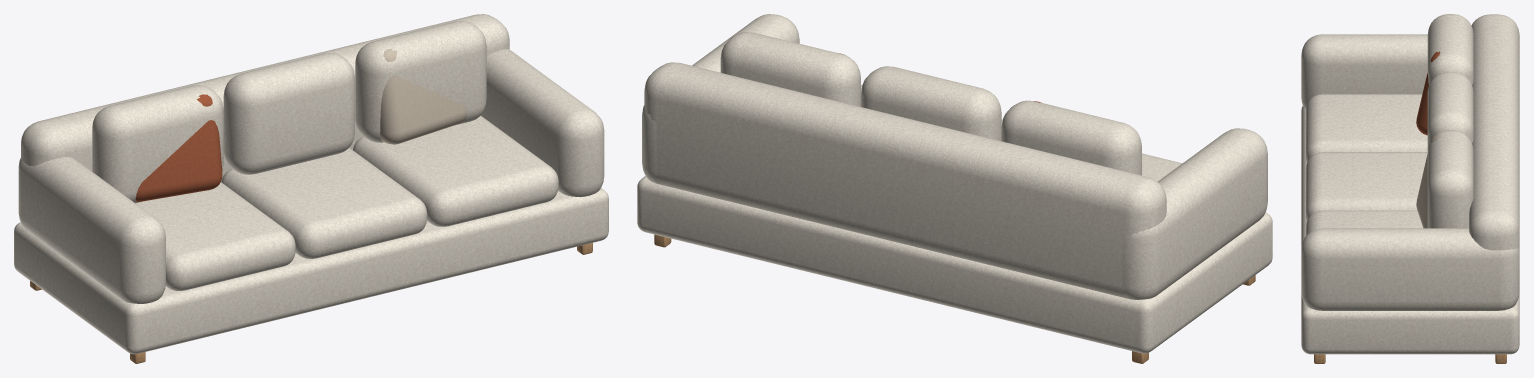
File: sofa-boucle.glb
3 renders of one model, left to right at view 1: azimuth 30°, elevation 25°; view 2: azimuth 150°, elevation 25°; view 3: azimuth 270°, elevation 25°, orthographic. The views are drawn at different scales.
Parts seen in each view (by area): view 1: base, arm, seat.001, cushion.001, seat.002, seat, arm.001, cushion.002, cushion, back, pillow.001, pillow; view 2: back, base, arm, cushion.001, cushion, cushion.002, arm.001, seat; view 3: arm.001, back, base, arm, seat, seat.001, cushion.002, cushion.001, cushion, seat.002, pillow.001, pillow.
Boxes of the visible parts, x1,y1,x2,y2 form: base: (14,188,608,354); arm: (18,157,165,303); seat.001: (221,147,427,258); cushion.001: (223,53,354,174); seat.002: (353,115,558,226); seat: (136,182,295,290); arm.001: (481,49,604,197); cushion.002: (355,21,486,142); cushion: (92,85,223,203); back: (21,14,509,181); pillow.001: (380,48,466,144); pillow: (135,94,222,201); back: (644,62,1166,298); base: (637,176,1272,353); arm: (1122,128,1267,299); cushion.001: (861,66,1001,141); cushion: (1001,100,1141,175); cushion.002: (720,32,860,106); arm.001: (642,14,799,184); seat: (1142,153,1182,181); arm.001: (1301,228,1519,310); back: (1469,14,1519,250); base: (1301,106,1519,354); arm: (1301,34,1427,110); seat: (1306,94,1427,162); seat.001: (1306,152,1427,220); cushion.002: (1427,130,1473,228); cushion.001: (1427,72,1473,149); cushion: (1427,14,1473,85); seat.002: (1306,210,1422,235); pillow.001: (1416,134,1440,228); pillow: (1416,51,1440,135).
Bounding box in the file's own units: 2.2 × 0.82 × 0.95.
Materials: 4 (4 with a texture image).
